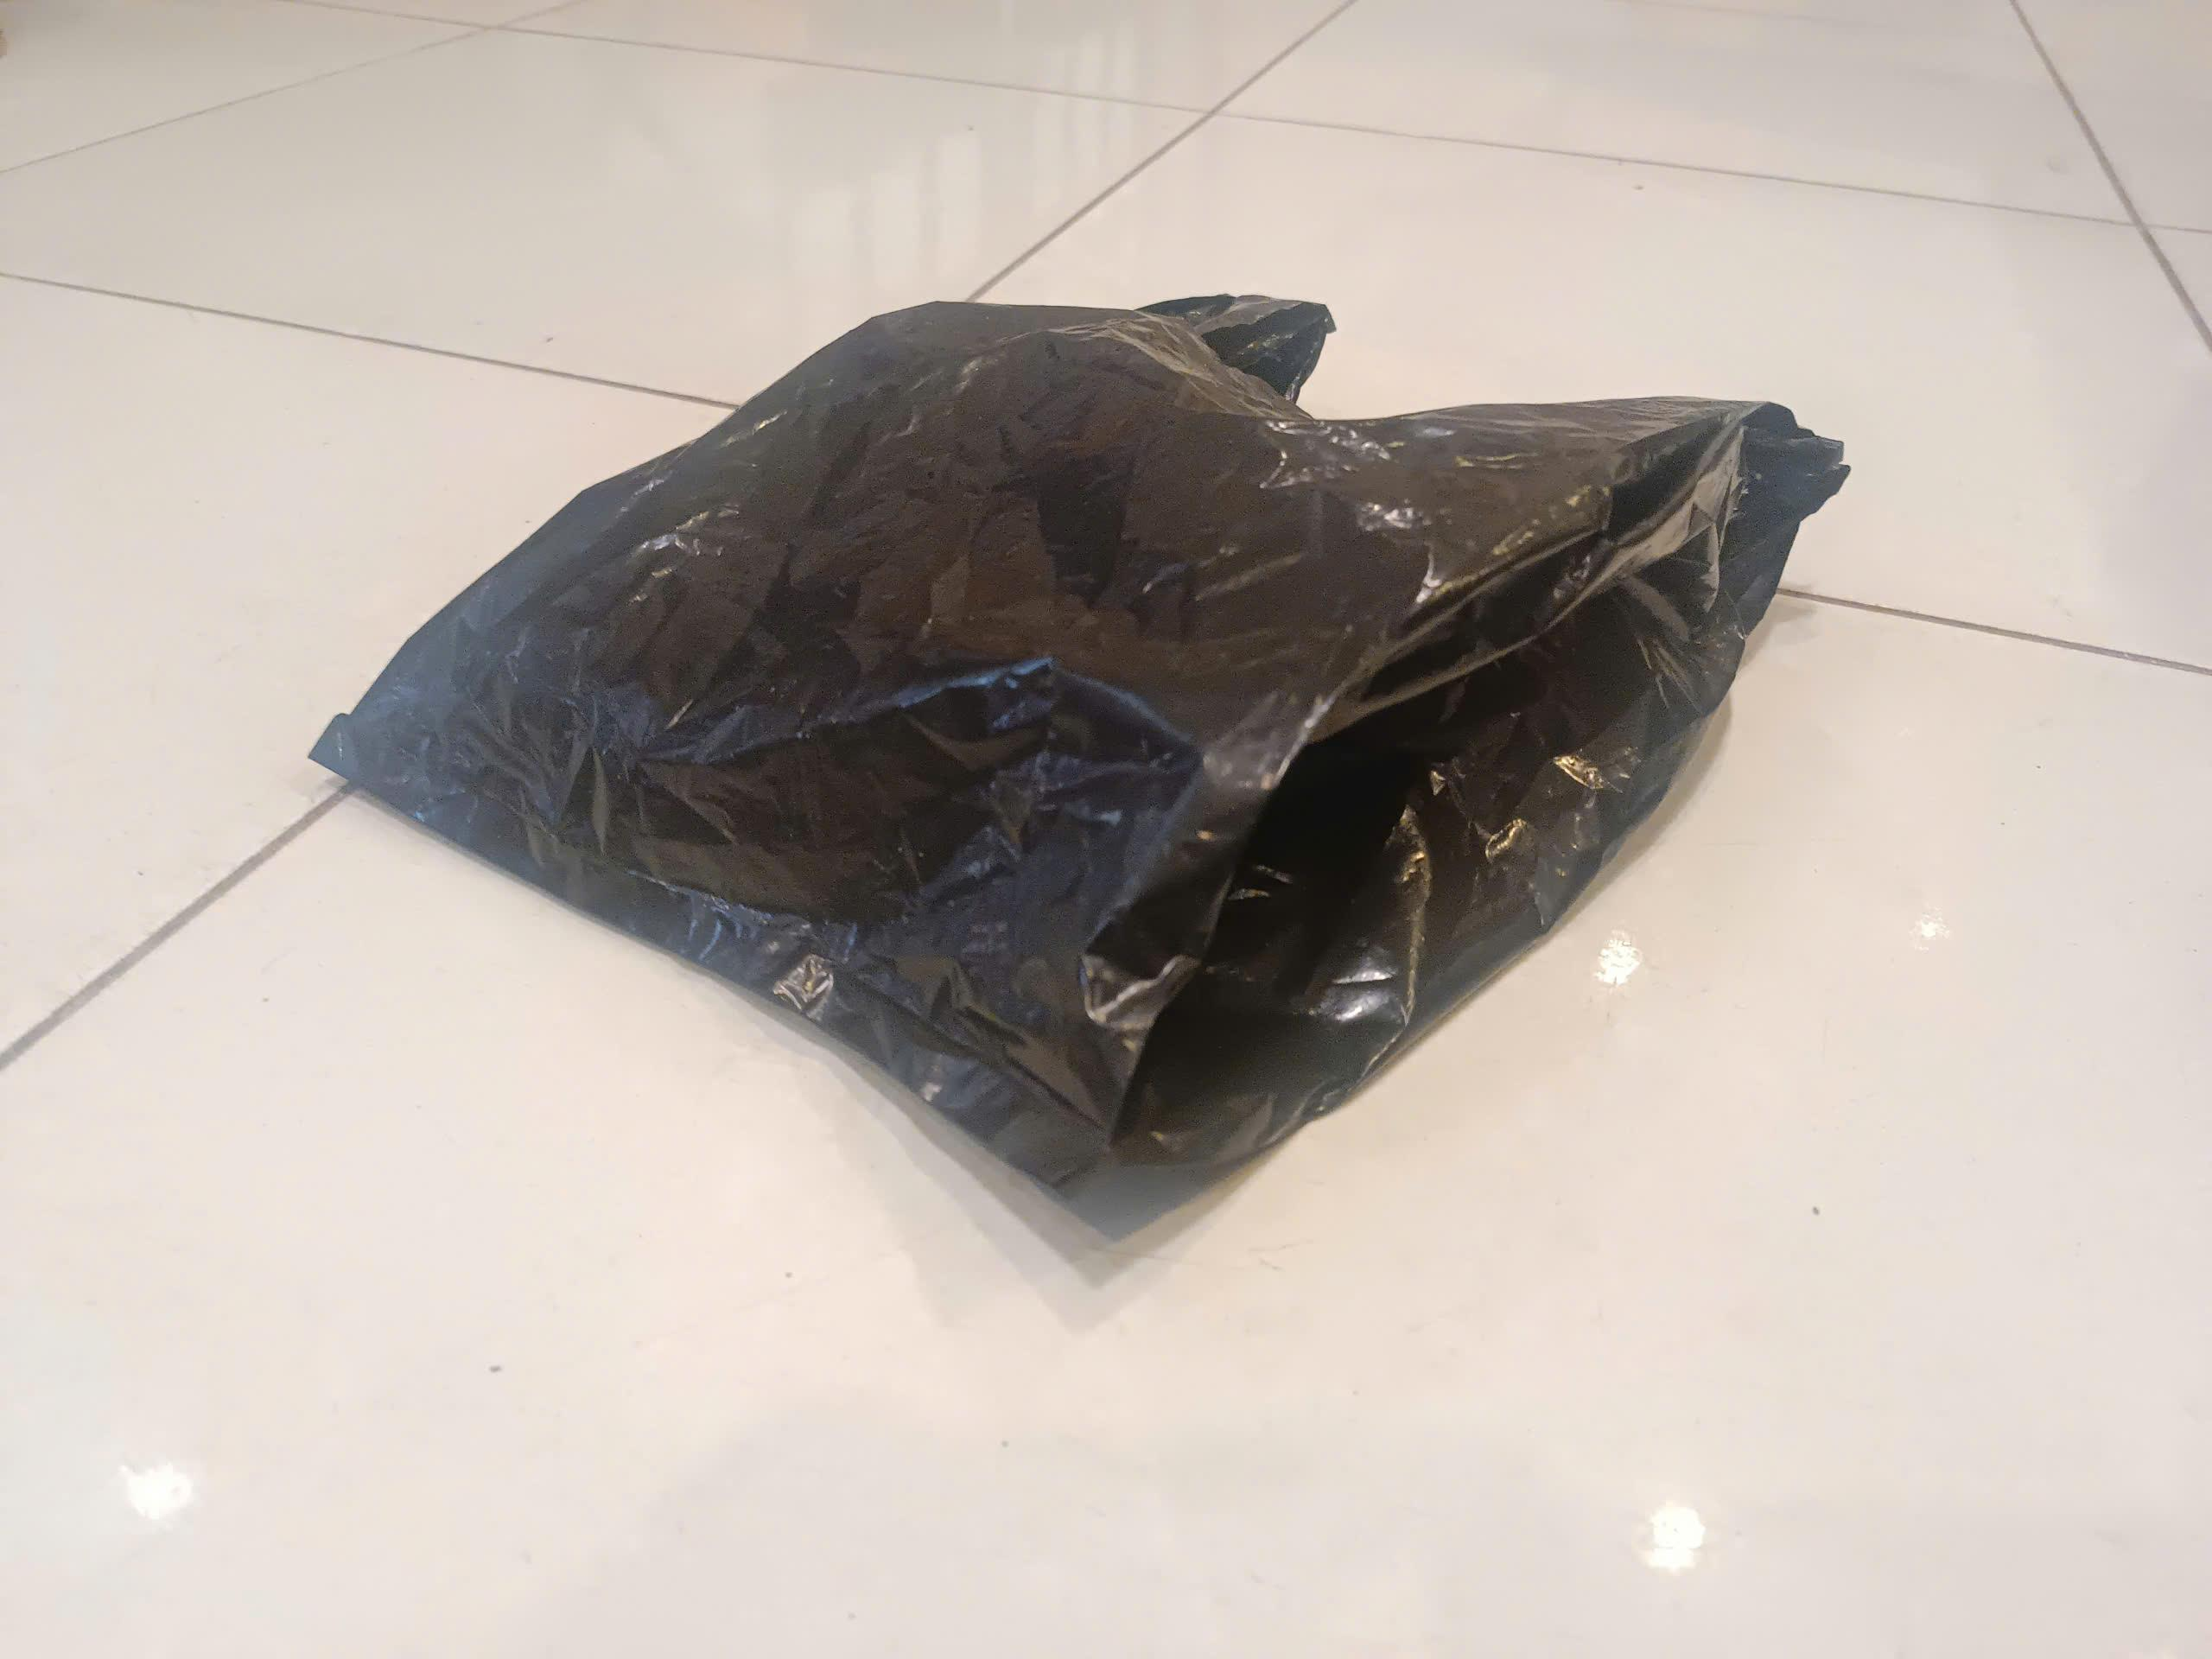Vo co: (312, 298, 1857, 1241)
